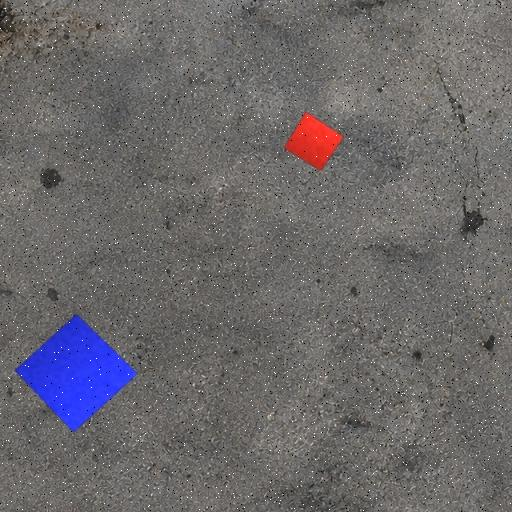BLUE_SQUARE: (14, 314, 138, 434)
RED_SQUARE: (283, 111, 345, 171)
